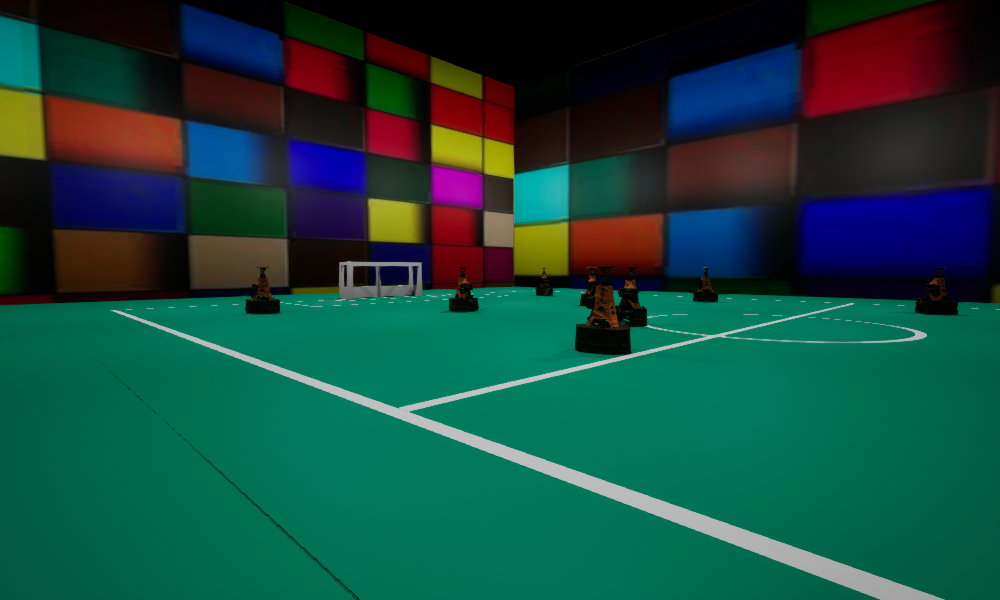0 orange robot TechUnited: (575, 265, 630, 354), (915, 267, 957, 314), (615, 267, 647, 325), (245, 267, 279, 313), (449, 267, 478, 311), (693, 267, 717, 301), (580, 267, 599, 305), (536, 268, 552, 295)
